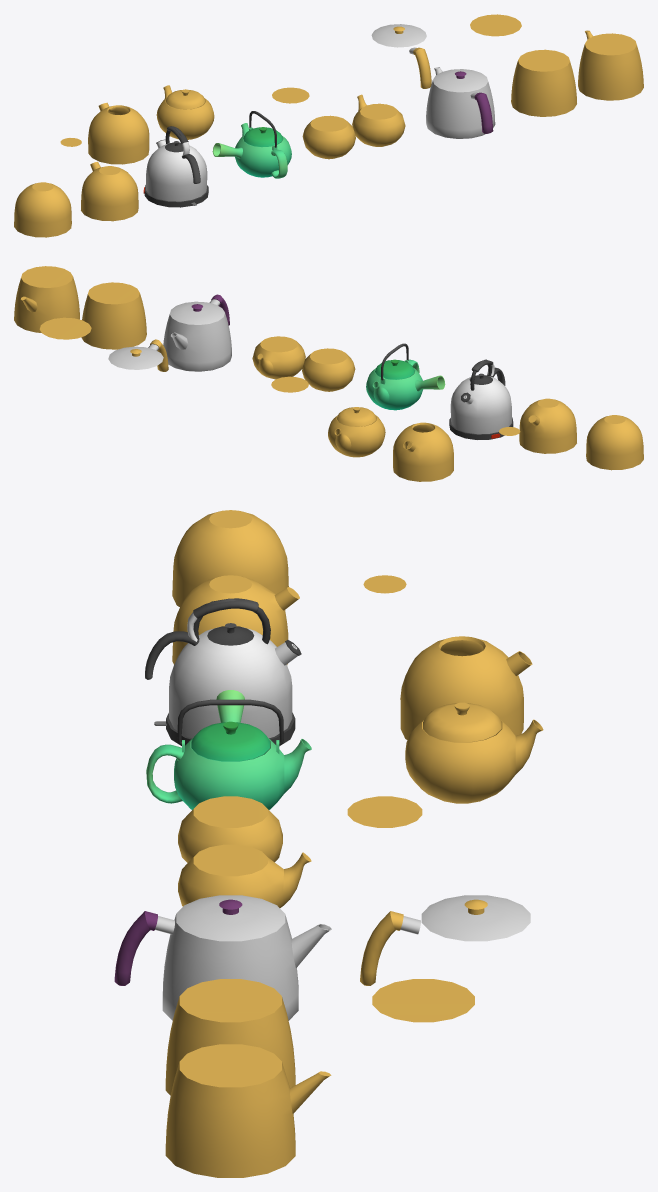
Rendered from teapotKettle.fbx.
The picture shows the model from 3 angles, top to bottom: view 1: azimuth 30°, elevation 25°; view 2: azimuth 150°, elevation 25°; view 3: azimuth 270°, elevation 25°; orthographic projection. The views are drawn at different scales.
Parts seen in each view (by area): view 1: teapot_Double_Liquid_2_Volume, teapot_Double_Liquid_1_Volume, kettle, teapot_Double, kettle_Liquid_2_Volume, kettle_p, kettle_Liquid_1_Volume, teapot_Liquid_2_Volume, teapot_Liquid_1_Volume, teapot, teapot_p, teapot_Double_Lid (+10 smaller); view 2: teapot_Double_Liquid_1_Volume, teapot_Double_Liquid_2_Volume, teapot_Double, kettle, kettle_p, kettle_Liquid_2_Volume, kettle_Liquid_1_Volume, teapot_Liquid_1_Volume, teapot_Liquid_2_Volume, teapot, teapot_p, teapot_Double_Lid (+7 smaller); view 3: teapot_Double_Liquid_2_Volume, kettle_p, kettle, teapot_Double_Liquid_1_Volume, teapot_Double, kettle_Liquid_1_Volume, teapot, teapot_p, teapot_Liquid_2_Volume, teapot_Liquid_1_Volume, kettle_Liquid_2_Volume, teapot_Double_Lid (+9 smaller).
Boxes of the visible parts, x1,y1,x2,y2 form: teapot_Double_Liquid_2_Volume: [578, 30, 643, 100]; teapot_Double_Liquid_1_Volume: [511, 49, 576, 116]; kettle: [88, 102, 149, 164]; teapot_Double: [426, 67, 495, 138]; kettle_Liquid_2_Volume: [81, 161, 138, 221]; kettle_p: [146, 140, 207, 201]; kettle_Liquid_1_Volume: [14, 182, 71, 237]; teapot_Liquid_2_Volume: [352, 94, 405, 146]; teapot_Liquid_1_Volume: [302, 115, 355, 159]; teapot: [156, 85, 214, 139]; teapot_p: [235, 123, 291, 177]; teapot_Double_Lid: [371, 24, 426, 47]; teapot_Double_Liquid_1_Volume: [81, 282, 146, 349]; teapot_Double_Liquid_2_Volume: [14, 266, 79, 332]; teapot_Double: [163, 313, 231, 371]; kettle: [393, 422, 453, 481]; kettle_p: [450, 376, 511, 434]; kettle_Liquid_2_Volume: [519, 398, 576, 453]; kettle_Liquid_1_Volume: [586, 415, 643, 470]; teapot_Liquid_1_Volume: [302, 348, 355, 391]; teapot_Liquid_2_Volume: [252, 336, 305, 379]; teapot: [328, 415, 385, 457]; teapot_p: [366, 367, 422, 410]; teapot_Double_Lid: [108, 346, 163, 369]; teapot_Double_Liquid_2_Volume: [165, 1044, 331, 1177]; kettle_p: [169, 627, 297, 738]; kettle: [400, 636, 532, 739]; teapot_Double_Liquid_1_Volume: [165, 979, 295, 1095]; teapot_Double: [162, 914, 331, 1020]; kettle_Liquid_1_Volume: [172, 510, 288, 606]; teapot: [405, 719, 543, 803]; teapot_p: [174, 738, 311, 809]; teapot_Liquid_2_Volume: [178, 844, 311, 907]; teapot_Liquid_1_Volume: [178, 796, 282, 862]; kettle_Liquid_2_Volume: [172, 575, 299, 664]; teapot_Double_Lid: [421, 895, 530, 941].
Size of the model in its own units: 18.6 by 5.56 by 1.87.
